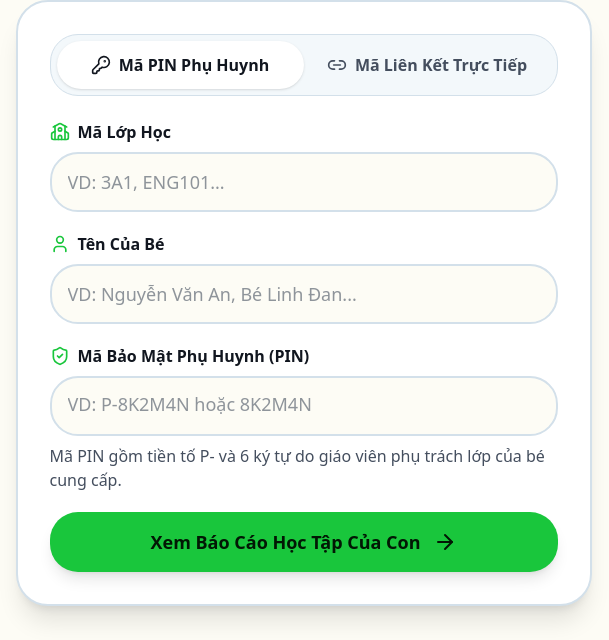
Scenario: Parent Portal UI Components › ParentAuthForm › renders input fields for PIN login and toggles to token mode
The image size is (609, 640).
Check: the field labelled "Mã Lớp Học" is shown, box [50,152,558,212]
Check: the field labelled "Tên Của Bé" is shown, box [50,264,558,324]
# Toggle to token mode
Click the button "Mã Liên Kết Trực Tiếp" at (427, 65), box [304,41,550,89]
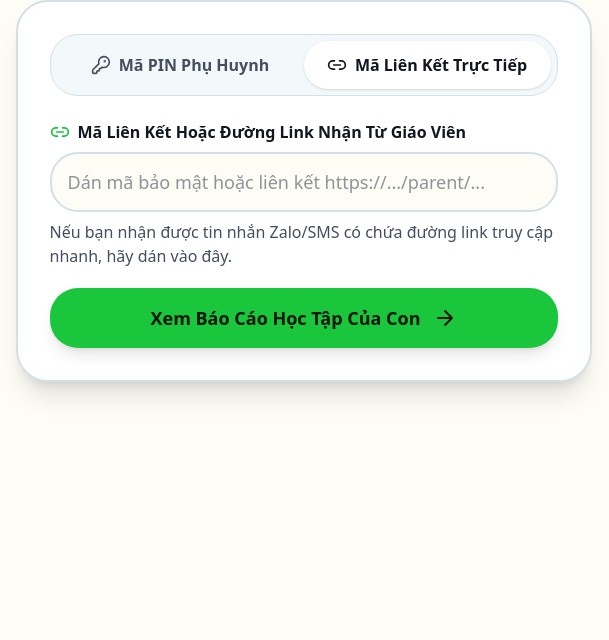
Check: the field labelled "Mã Liên Kết Hoặc Đường Link Nhận Từ Giáo Viên" is shown, box [50,152,558,212]
